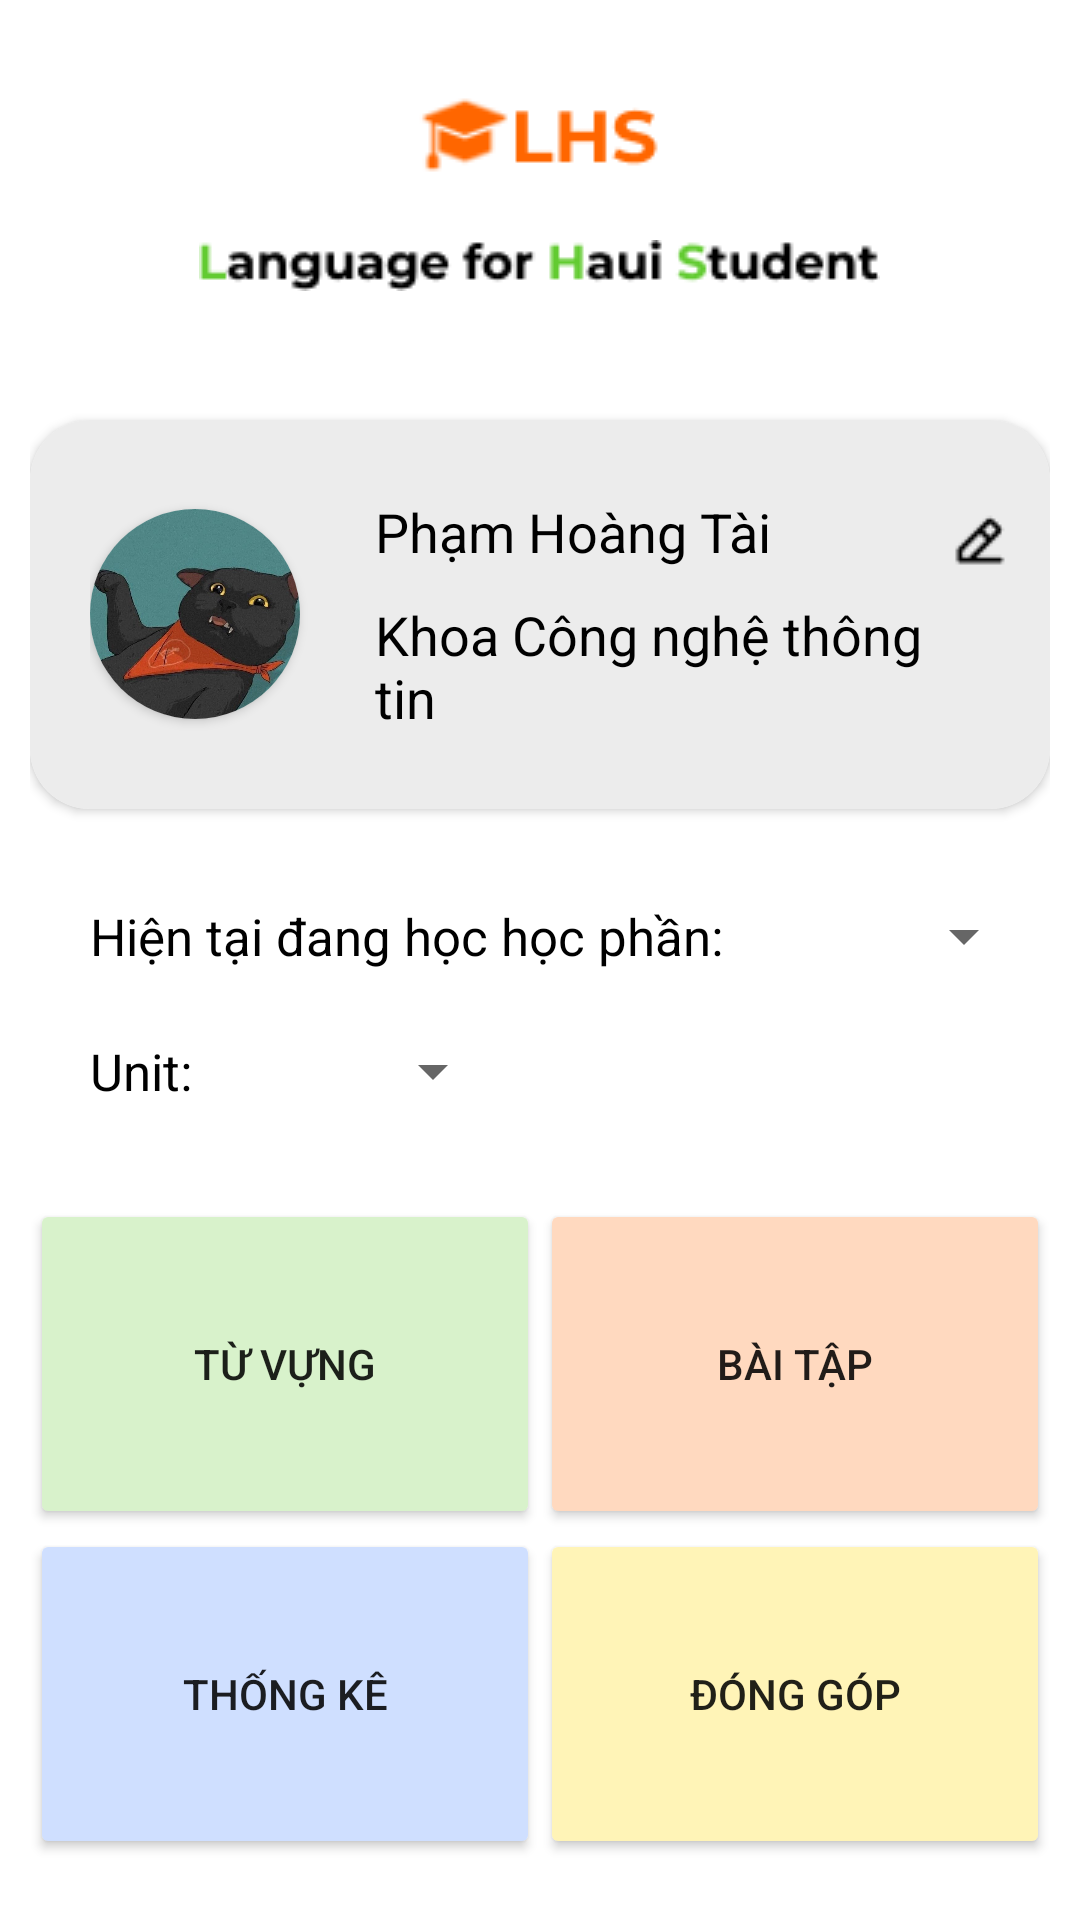

Icons on this 1080 × 1920 Android screen, each with the point to tap as point (x, y):
edit: point (980, 541)
